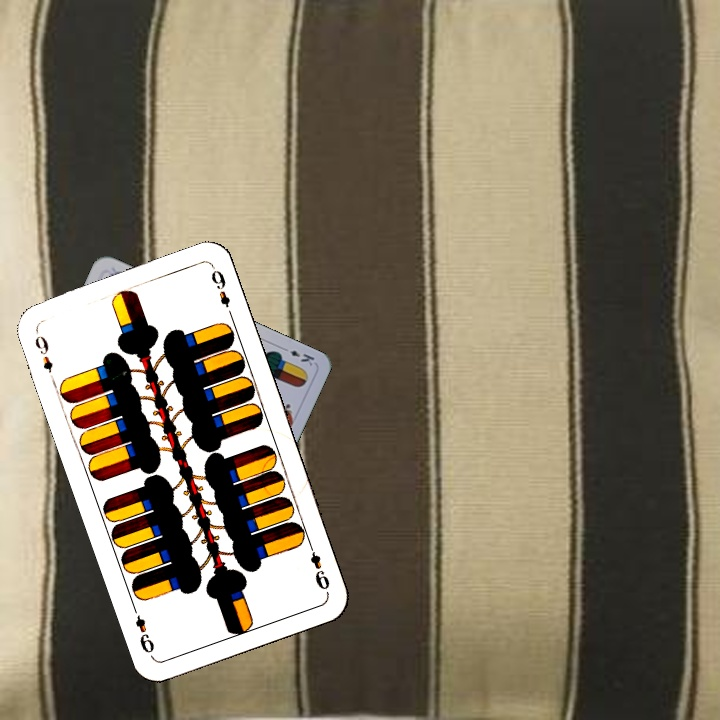E9: (304, 538, 333, 595), (30, 327, 58, 385)
EK: (278, 343, 317, 368)
